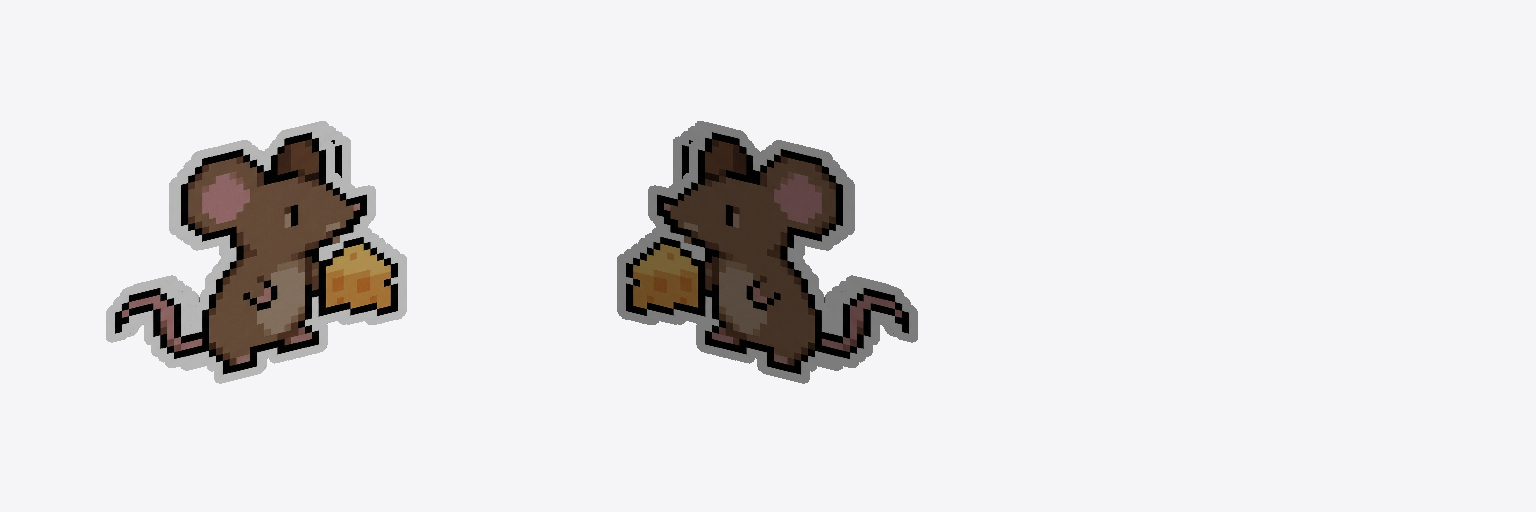
3 renders of one model, left to right at view 1: azimuth 30°, elevation 25°; view 2: azimuth 150°, elevation 25°; view 3: azimuth 270°, elevation 25°, orthographic.
Parts seen in each view (by area): view 1: player; view 2: player; view 3: none.
Boxes of the visible parts, box(x1,y1,x2,y2) form: player: box(106, 121, 406, 383); player: box(617, 121, 917, 383).
Size of the model in its own units: 1.12 by 1 by 0.0008.
Materials: 2 (2 with a texture image).